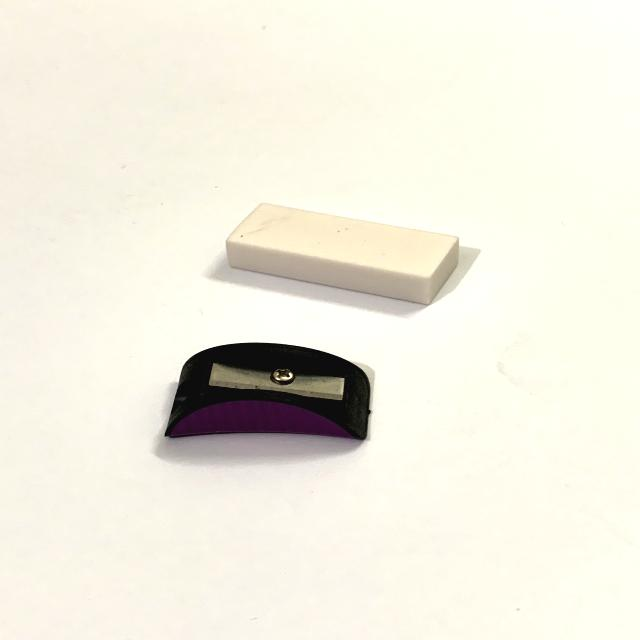Eraser: (190, 169, 492, 321)
Sharpner: (132, 332, 382, 460)
